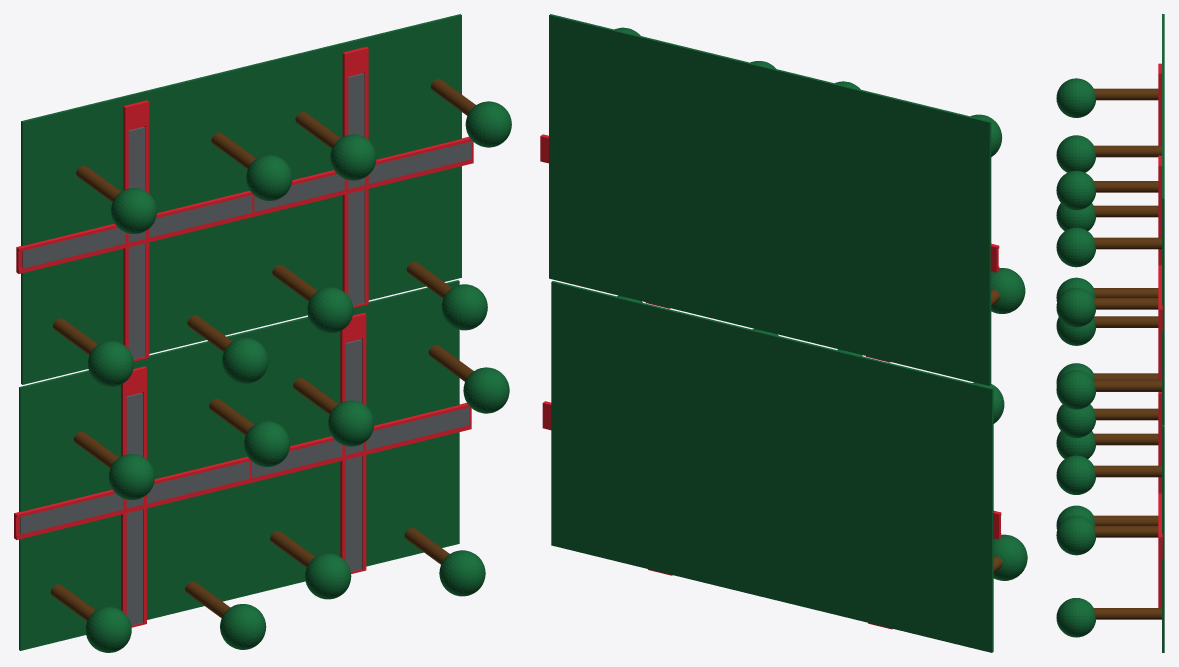
File: tinker.obj
3 views of the same model, side by side, from view 1: azimuth 30°, elevation 25°; view 2: azimuth 150°, elevation 25°; view 3: azimuth 270°, elevation 25° (orthographic). The views are drawn at different scales.
Visible parts, largest first — view 1: group_0_1206582, group_0_6383466, group_0_15277357, group_0_6306067; view 2: group_0_1206582, group_0_15277357; view 3: group_0_1206582, group_0_6306067, group_0_15277357.
Part boxes in pixels (x1,y1,x2,y2): group_0_1206582: (19,14,511,652); group_0_6383466: (20,73,471,625); group_0_15277357: (14,47,473,627); group_0_6306067: (50,79,475,620); group_0_1206582: (549,14,1027,652); group_0_15277357: (540,134,1001,629); group_0_1206582: (1056,14,1164,652); group_0_6306067: (1094,88,1161,619); group_0_15277357: (1158,63,1162,607).
Bounding box in the file's own units: 514 × 570 × 122.
